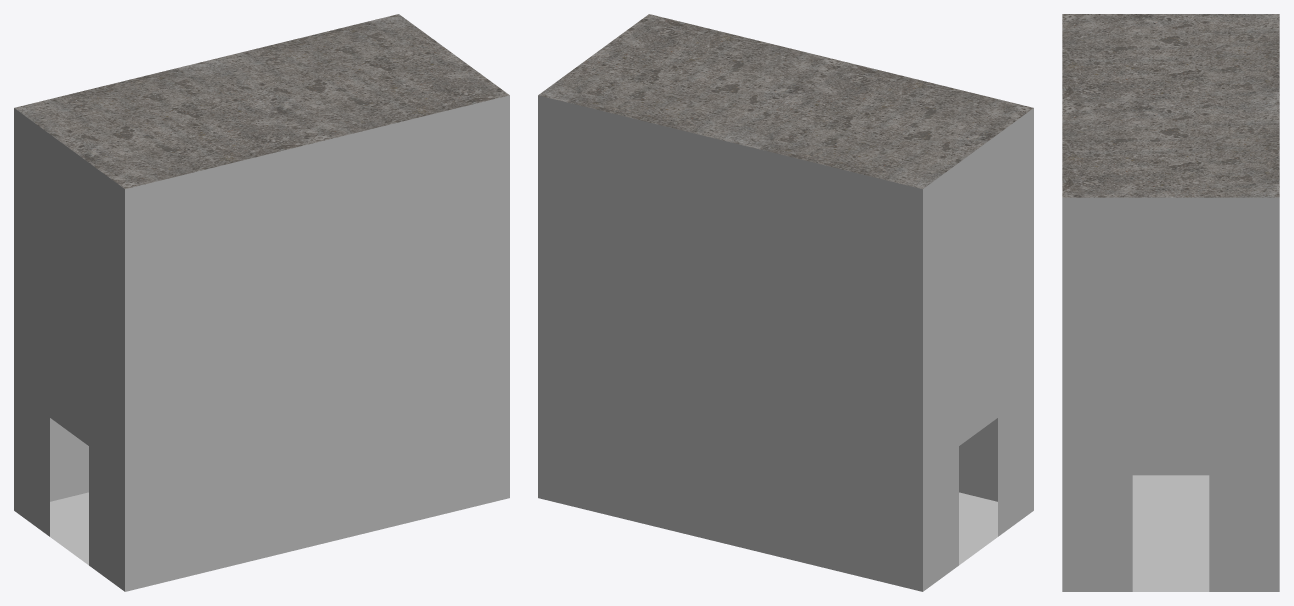
File: room_6.fbx
The picture shows the model from 3 angles, left to right: view 1: azimuth 30°, elevation 25°; view 2: azimuth 150°, elevation 25°; view 3: azimuth 270°, elevation 25°; orthographic projection. The views are drawn at different scales.
Visible parts, largest first — view 1: Room_6; view 2: Room_6; view 3: Room_6.
Part boxes in pixels (box(x1,y1,x2,y2)): Room_6: box(14, 14, 509, 591); Room_6: box(538, 14, 1033, 591); Room_6: box(1062, 14, 1279, 591).
Size of the model in its own units: 8 by 8 by 4.
